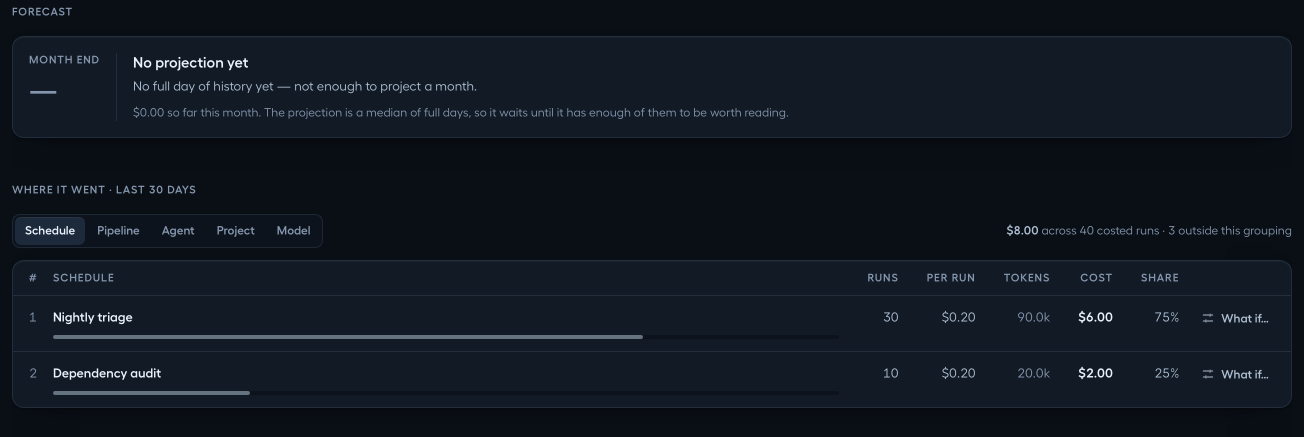
Test: LedgerPanels › switching dimension changes what is grouped
Expected: the text "Nightly triage" is shown, [53,310,133,323]
Click the radio button labelled "Model".
click(294, 231)  # box [267,217,320,245]
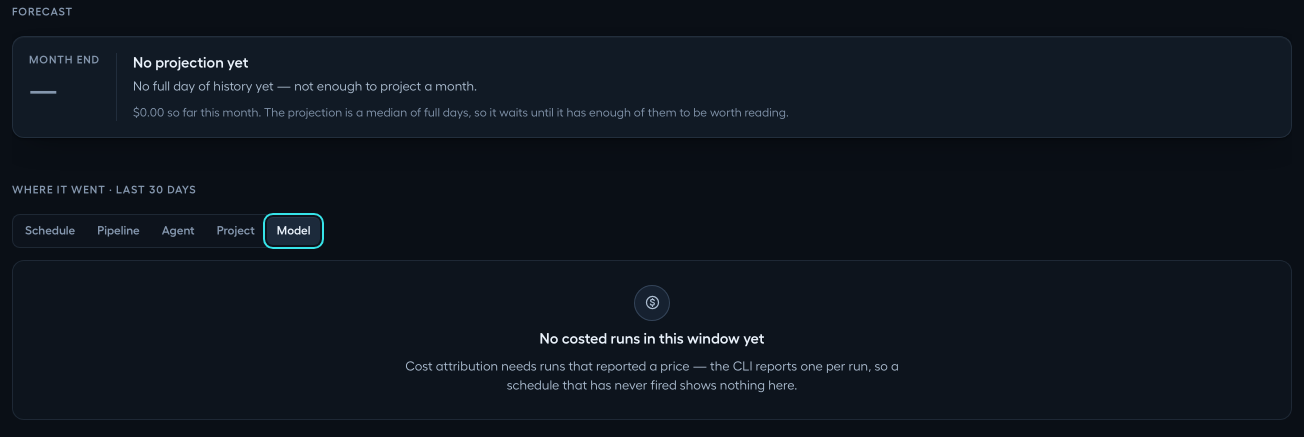
Expected: the text "Nightly triage" is gone
Expected: the text "No costed runs in this window yet" is shown, [540,329,764,349]
